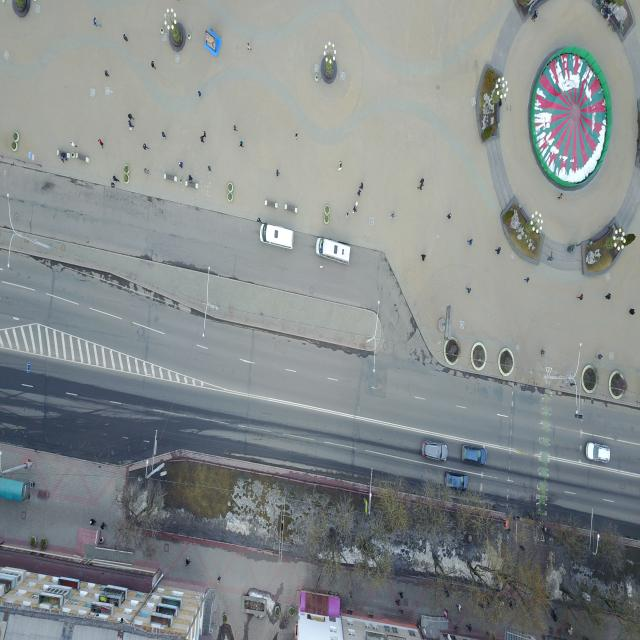UAI: (585, 439, 612, 467), (421, 439, 448, 464), (462, 444, 488, 469), (445, 469, 469, 494)
harvester: (314, 235, 351, 266), (259, 222, 294, 253)
